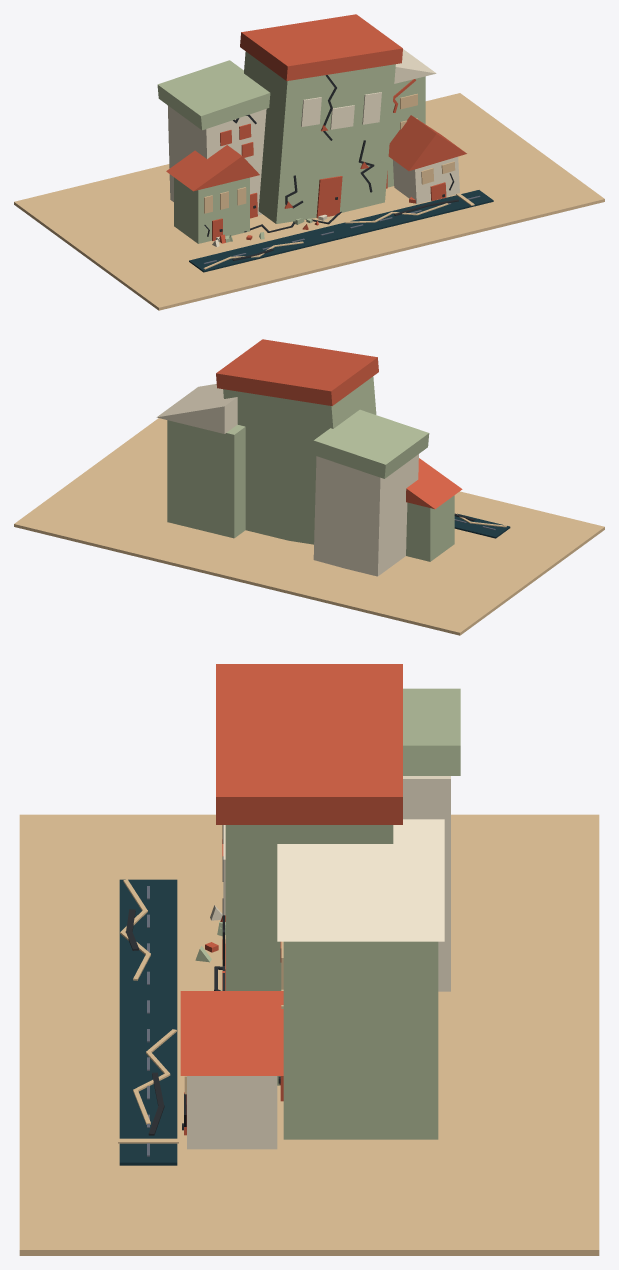
The model's file is M01_Gempa.fbx.
The picture shows the model from 3 angles, top to bottom: view 1: azimuth 30°, elevation 25°; view 2: azimuth 150°, elevation 25°; view 3: azimuth 270°, elevation 25°; orthographic projection. The views are drawn at different scales.
Parts seen in each view (by area): view 1: Gempa_TANAH, Gempa_GREEN, Gempa_RED, Gempa_CREAM, Gempa_TEAL, Gempa_SAND, Gempa_DARK; view 2: Gempa_TANAH, Gempa_GREEN, Gempa_CREAM, Gempa_RED, Gempa_TEAL; view 3: Gempa_TANAH, Gempa_GREEN, Gempa_RED, Gempa_CREAM, Gempa_TEAL, Gempa_SAND, Gempa_DARK.
Boxes of the visible parts, x1,y1,x2,y2 form: Gempa_TANAH: [14, 93, 604, 310]; Gempa_GREEN: [157, 51, 425, 243]; Gempa_RED: [166, 14, 466, 243]; Gempa_CREAM: [167, 49, 459, 246]; Gempa_TEAL: [189, 190, 493, 272]; Gempa_SAND: [203, 93, 474, 269]; Gempa_DARK: [204, 75, 458, 260]; Gempa_TANAH: [14, 418, 604, 635]; Gempa_GREEN: [167, 376, 454, 561]; Gempa_CREAM: [156, 384, 418, 576]; Gempa_RED: [216, 339, 462, 509]; Gempa_TEAL: [454, 513, 510, 538]; Gempa_TANAH: [19, 814, 599, 1255]; Gempa_GREEN: [195, 688, 460, 1139]; Gempa_RED: [180, 664, 402, 1135]; Gempa_CREAM: [187, 776, 450, 1149]; Gempa_TEAL: [119, 879, 177, 1165]; Gempa_SAND: [118, 879, 283, 1143]; Gempa_DARK: [125, 825, 280, 1135].
Bounding box in the file's own units: 1600 × 585 × 900.
